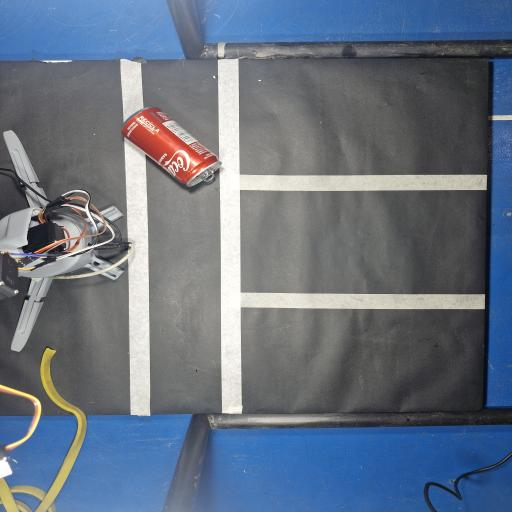lata: (122, 107, 221, 187)
